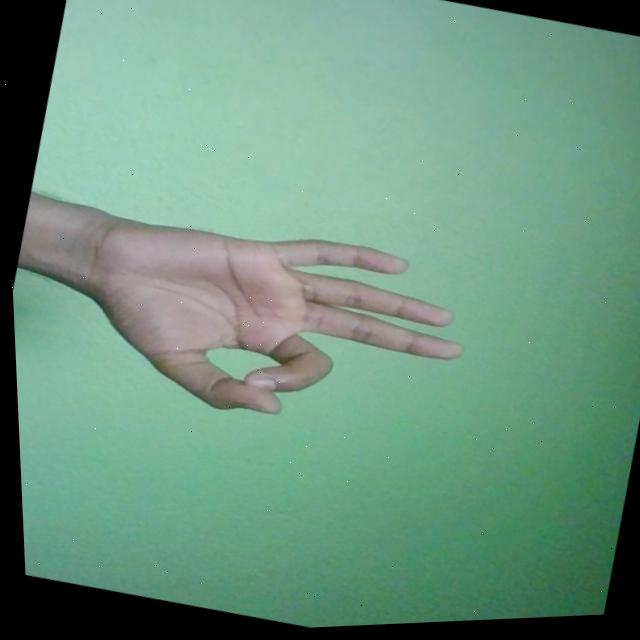Ok: (60, 185, 481, 468)
